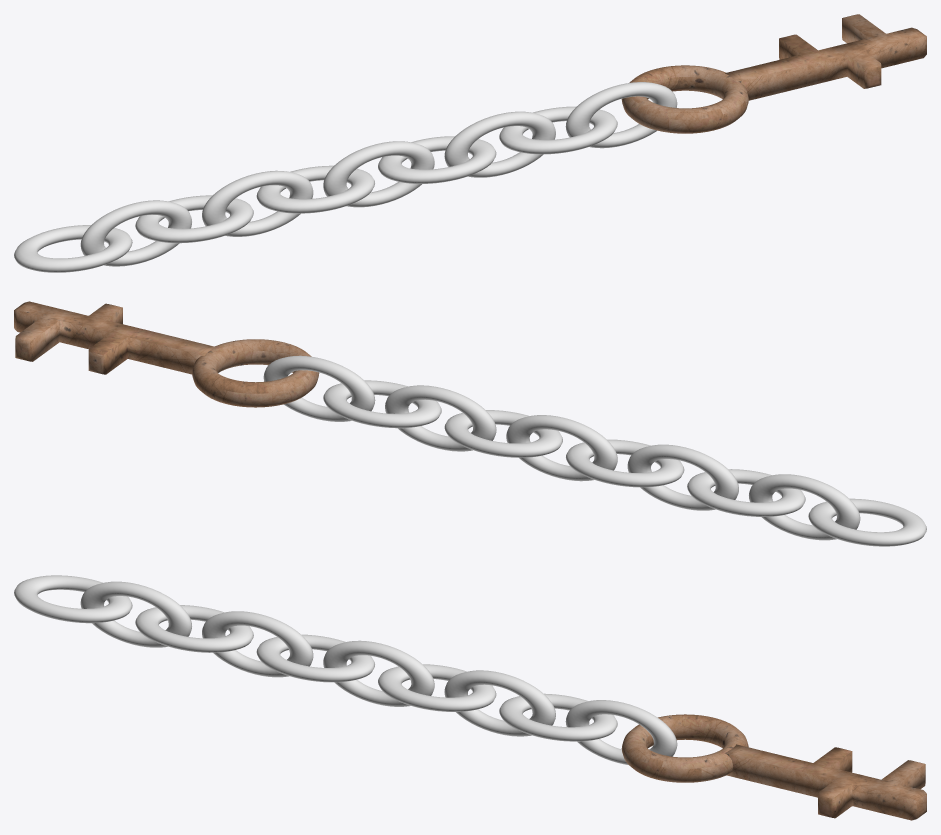
Rendered from anahtar 1.fbx.
3 views of the same model, one above another, from view 1: azimuth 30°, elevation 25°; view 2: azimuth 150°, elevation 25°; view 3: azimuth 330°, elevation 25° (orthographic).
Visible parts, largest first — view 1: Torus.002, Torus.001; view 2: Torus.002, Torus.001; view 3: Torus.002, Torus.001.
Part boxes in pixels (bbox=[...]): Torus.002: bbox=[14, 82, 677, 272]; Torus.001: bbox=[621, 14, 926, 133]; Torus.002: bbox=[263, 355, 926, 546]; Torus.001: bbox=[14, 301, 319, 407]; Torus.002: bbox=[14, 575, 677, 764]; Torus.001: bbox=[621, 714, 926, 820].
Size of the model in its own units: 2055 by 128 by 263.
Materials: 3 (1 with a texture image).
